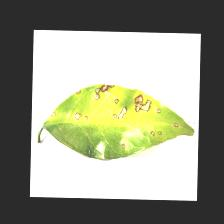canker: (78, 76, 158, 144)
